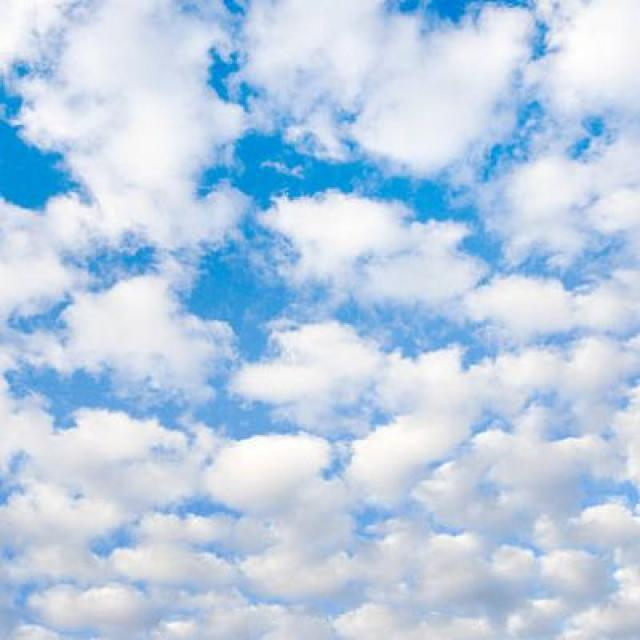Cc: (10, 1, 640, 640)
